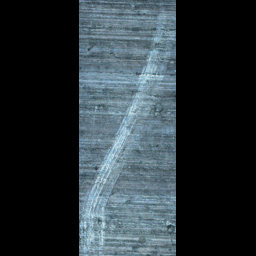d: (79, 180, 107, 255), (143, 12, 171, 78), (126, 69, 153, 135), (102, 134, 128, 188)
